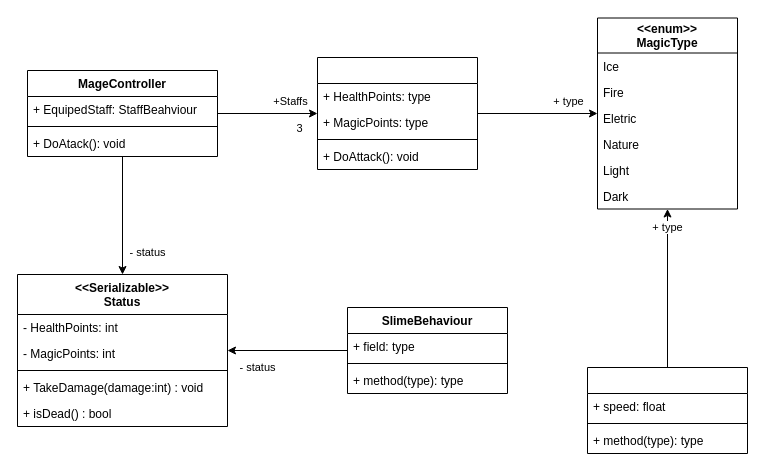
The diagram is 765 pixels wide and 473 high, and some of its shapes have lost their labels. The box of each missing label's shape, as (x1, y1, x2, y2) in pixels:
MissleController: (586, 366, 748, 454)
StaffBeahviour: (316, 56, 478, 170)
